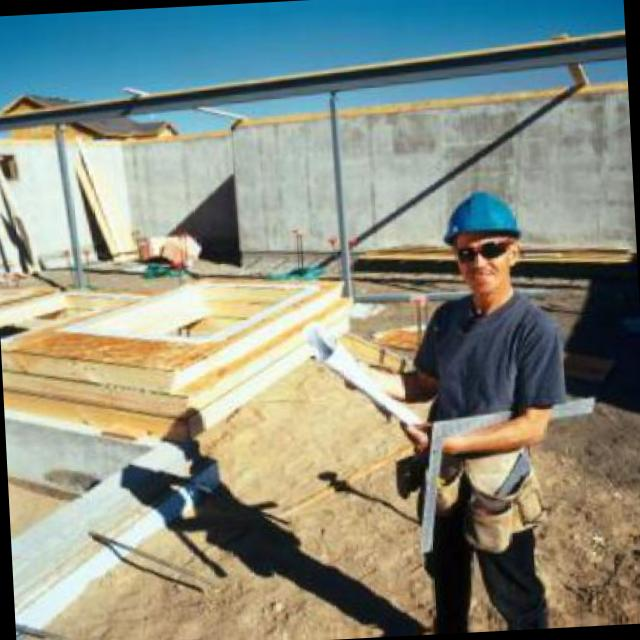helmet: (443, 186, 524, 298)
